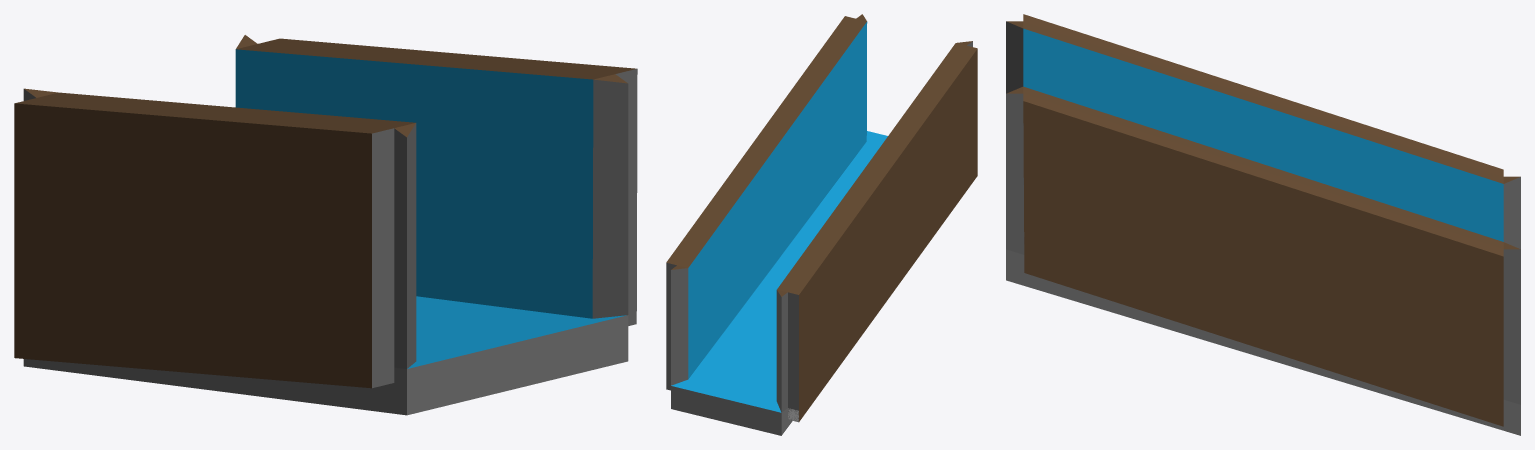
The model's file is ramp1Tx3T.fbx.
The picture shows the model from 3 angles, left to right: view 1: azimuth 30°, elevation 25°; view 2: azimuth 150°, elevation 25°; view 3: azimuth 270°, elevation 25°; orthographic projection. The views are drawn at different scales.
Visible parts, largest first — view 1: Wall, Wall.001, Ramp; view 2: Wall, Wall.001, Ramp; view 3: Wall.001, Wall, Ramp.
Boxes of the visible parts, left/top/right/bottom form: Wall: left=14, top=88, right=416, bottom=388; Wall.001: left=235, top=35, right=637, bottom=325; Ramp: left=23, top=296, right=628, bottom=415; Wall: left=776, top=41, right=977, bottom=422; Wall.001: left=666, top=14, right=867, bottom=390; Ramp: left=671, top=131, right=887, bottom=435; Wall.001: left=1006, top=86, right=1520, bottom=426; Wall: left=1006, top=14, right=1520, bottom=248; Ramp: left=1006, top=249, right=1520, bottom=435.
Size of the model in its own units: 240 by 440 by 600.
